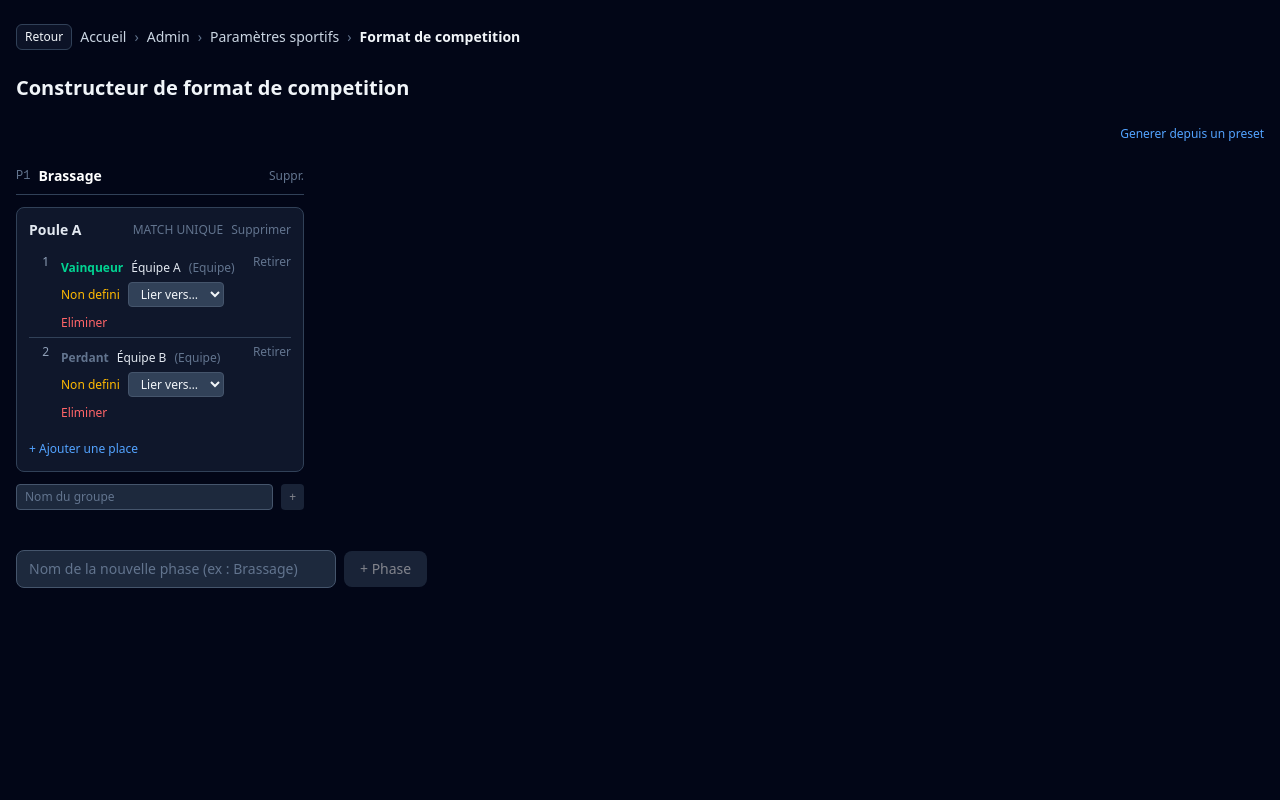
Test: FormatCompetitionBuilderPage › 409 reçu (onglet ouvert avant le lancement) : message du back et resynchronisation de l'édition (CA 11)
Expected: the button "Poule A" is shown, [29,220,125,240]
Type "Finales" into the field with placeholder "Nom de la nouvelle phase (ex : Brassage)" at [176, 569], box [16,550,336,588]
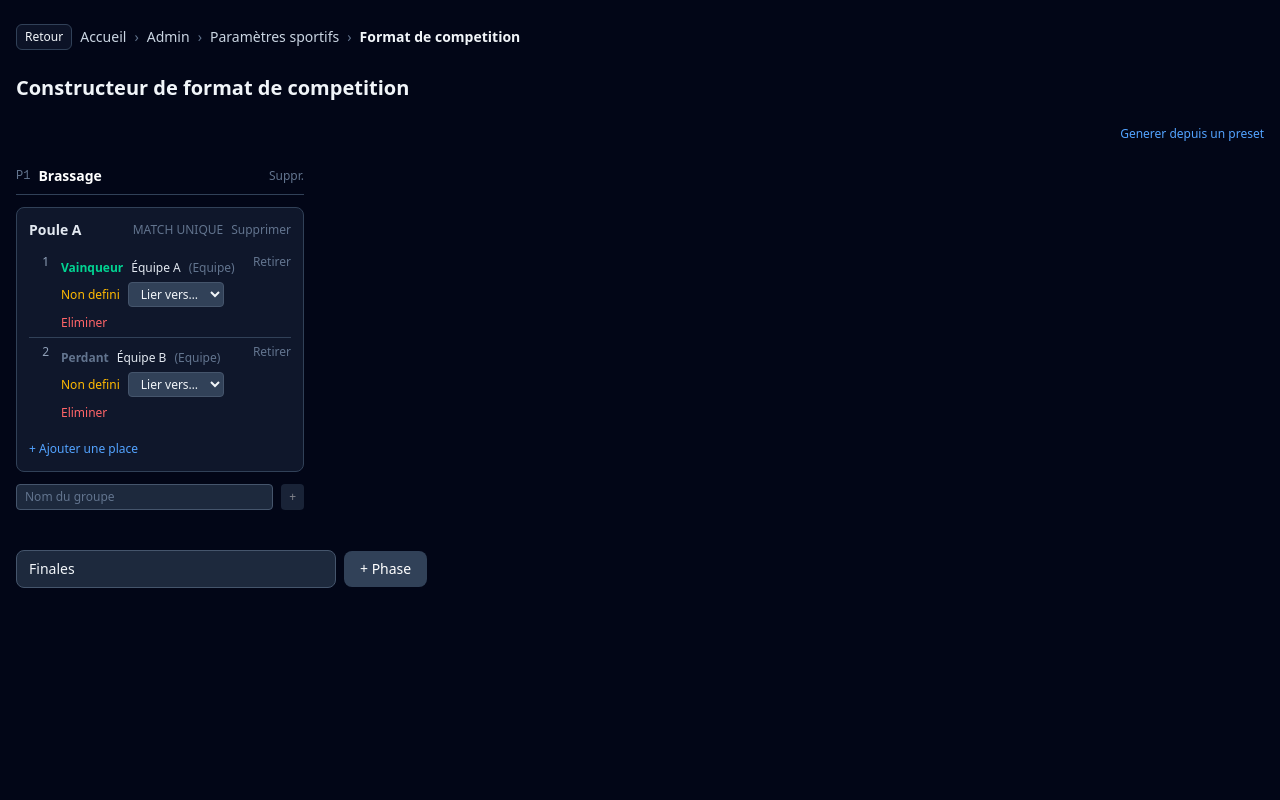
Click the button "+ Phase" at [386, 569], box [344,551,427,587]
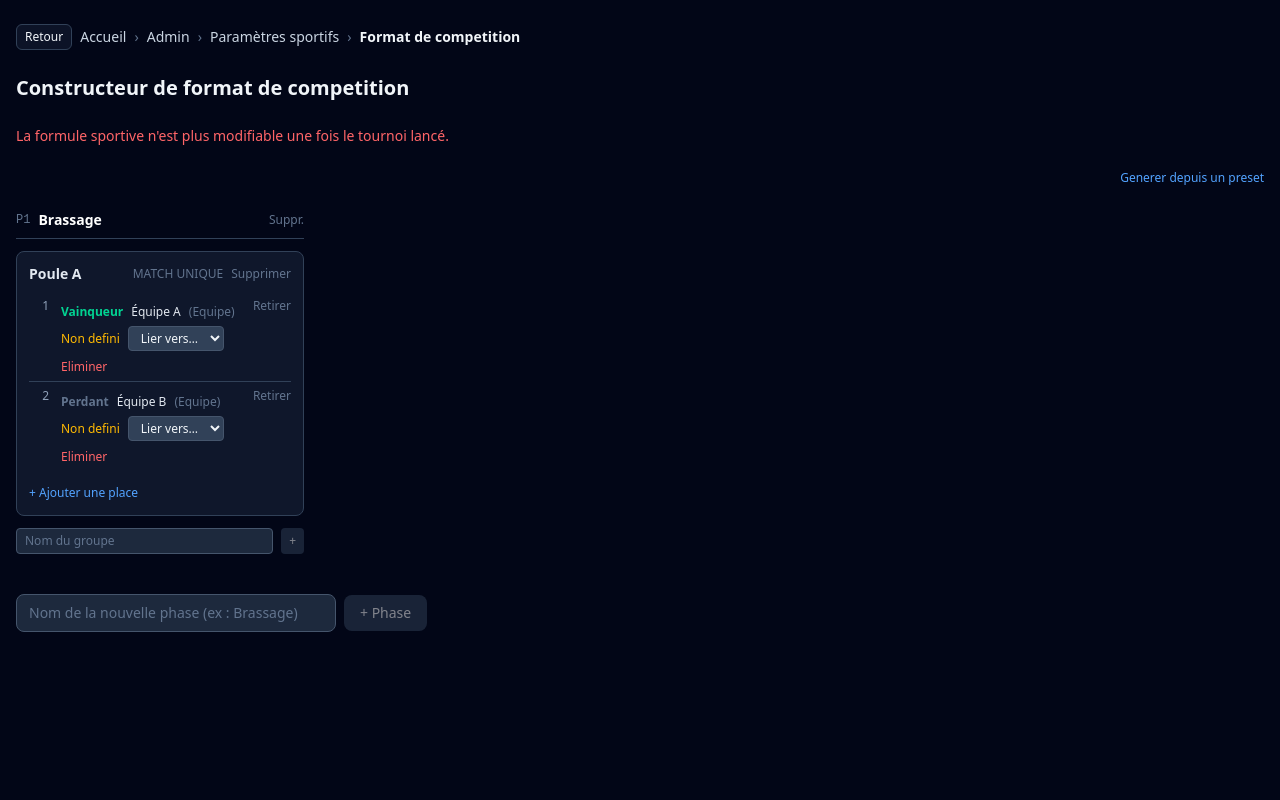
Result: the message reads "La formule sportive n'est plus modifiable une fois le tournoi lancé." at [16,126,449,145]
